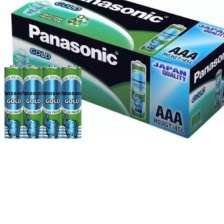battery: (3, 62, 29, 142), (58, 62, 82, 141), (40, 63, 63, 138), (22, 64, 44, 141)
book: (8, 0, 224, 149)
